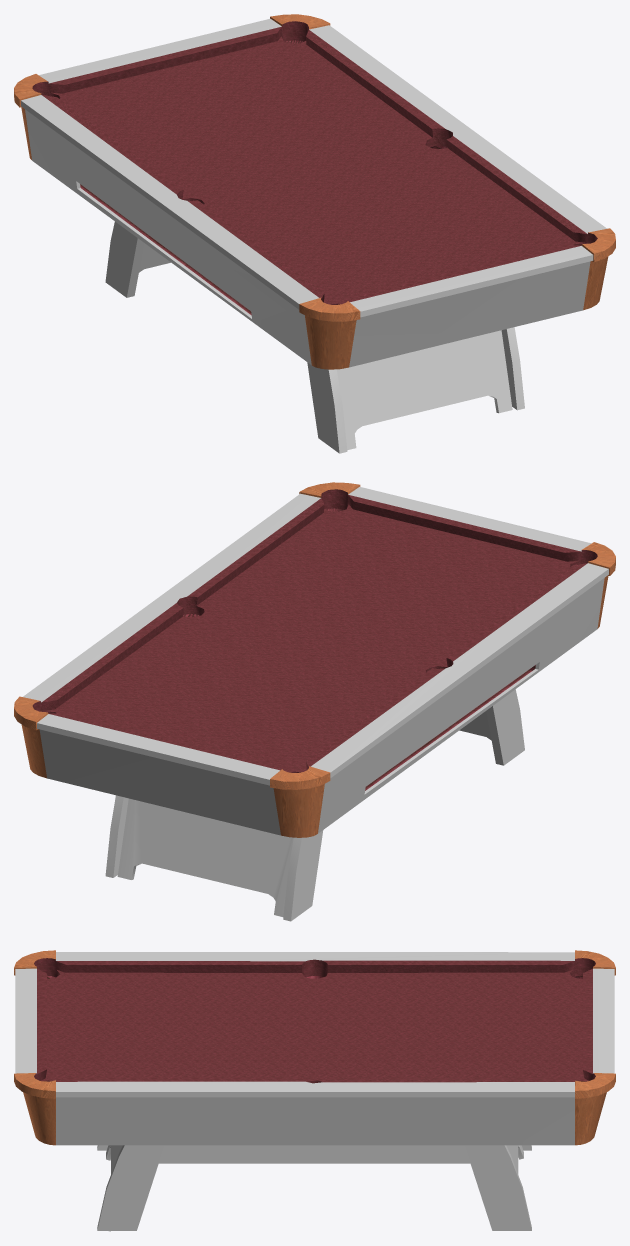
The model's file is Table.fbx.
The picture shows the model from 3 angles, top to bottom: view 1: azimuth 30°, elevation 25°; view 2: azimuth 150°, elevation 25°; view 3: azimuth 270°, elevation 25°; orthographic projection. The views are drawn at different scales.
Visible parts, largest first — view 1: PoolTable, ReturnTrack; view 2: PoolTable, ReturnTrack; view 3: PoolTable.
Part boxes in pixels (bbox=[...]): PoolTable: bbox=[14, 14, 615, 453]; ReturnTrack: bbox=[80, 40, 447, 315]; PoolTable: bbox=[14, 482, 615, 921]; ReturnTrack: bbox=[183, 508, 535, 790]; PoolTable: bbox=[14, 950, 615, 1231].
Bounding box in the file's own units: 1.82 × 1.04 × 3.29.
